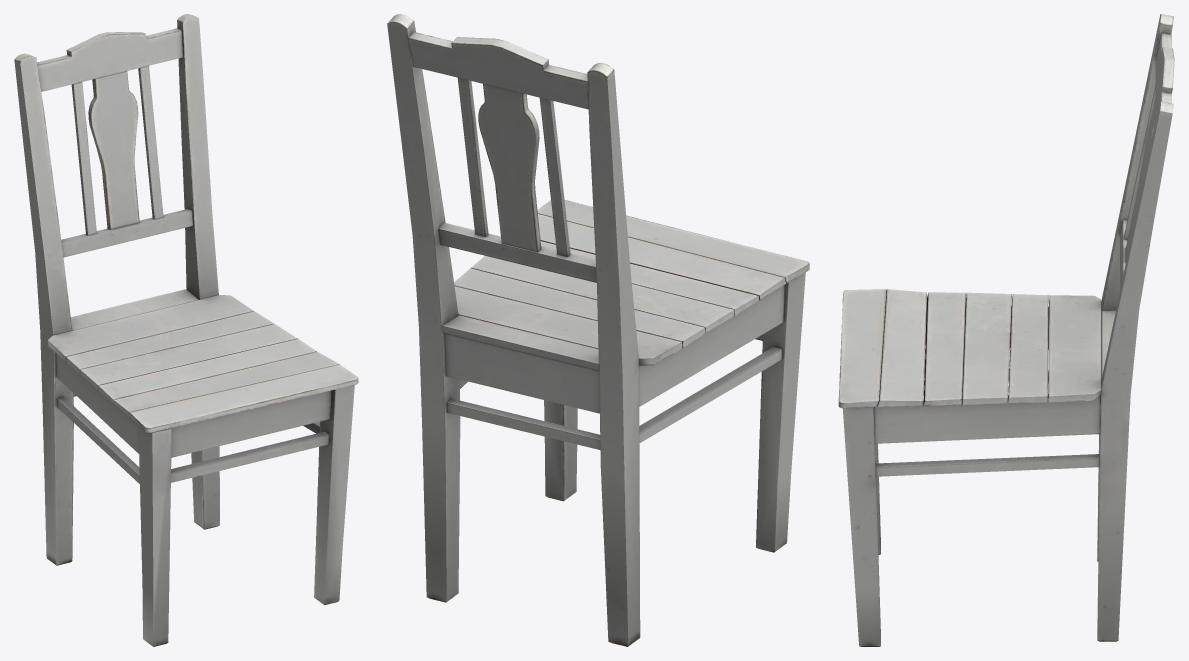
File: painted_wooden_chair_01.glb
3 views of the same model, side by side, from view 1: azimuth 30°, elevation 25°; view 2: azimuth 150°, elevation 25°; view 3: azimuth 270°, elevation 25° (orthographic). The views are drawn at different scales.
Parts seen in each view (by area): view 1: painted_wooden_chair_01; view 2: painted_wooden_chair_01; view 3: painted_wooden_chair_01.
Part boxes in pixels (x1,y1,x2,y2): painted_wooden_chair_01: [14, 14, 358, 646]; painted_wooden_chair_01: [387, 14, 809, 646]; painted_wooden_chair_01: [838, 14, 1174, 646].
Size of the model in its own units: 0.4317 by 0.9558 by 0.5397.
1 material, 1 textured.
